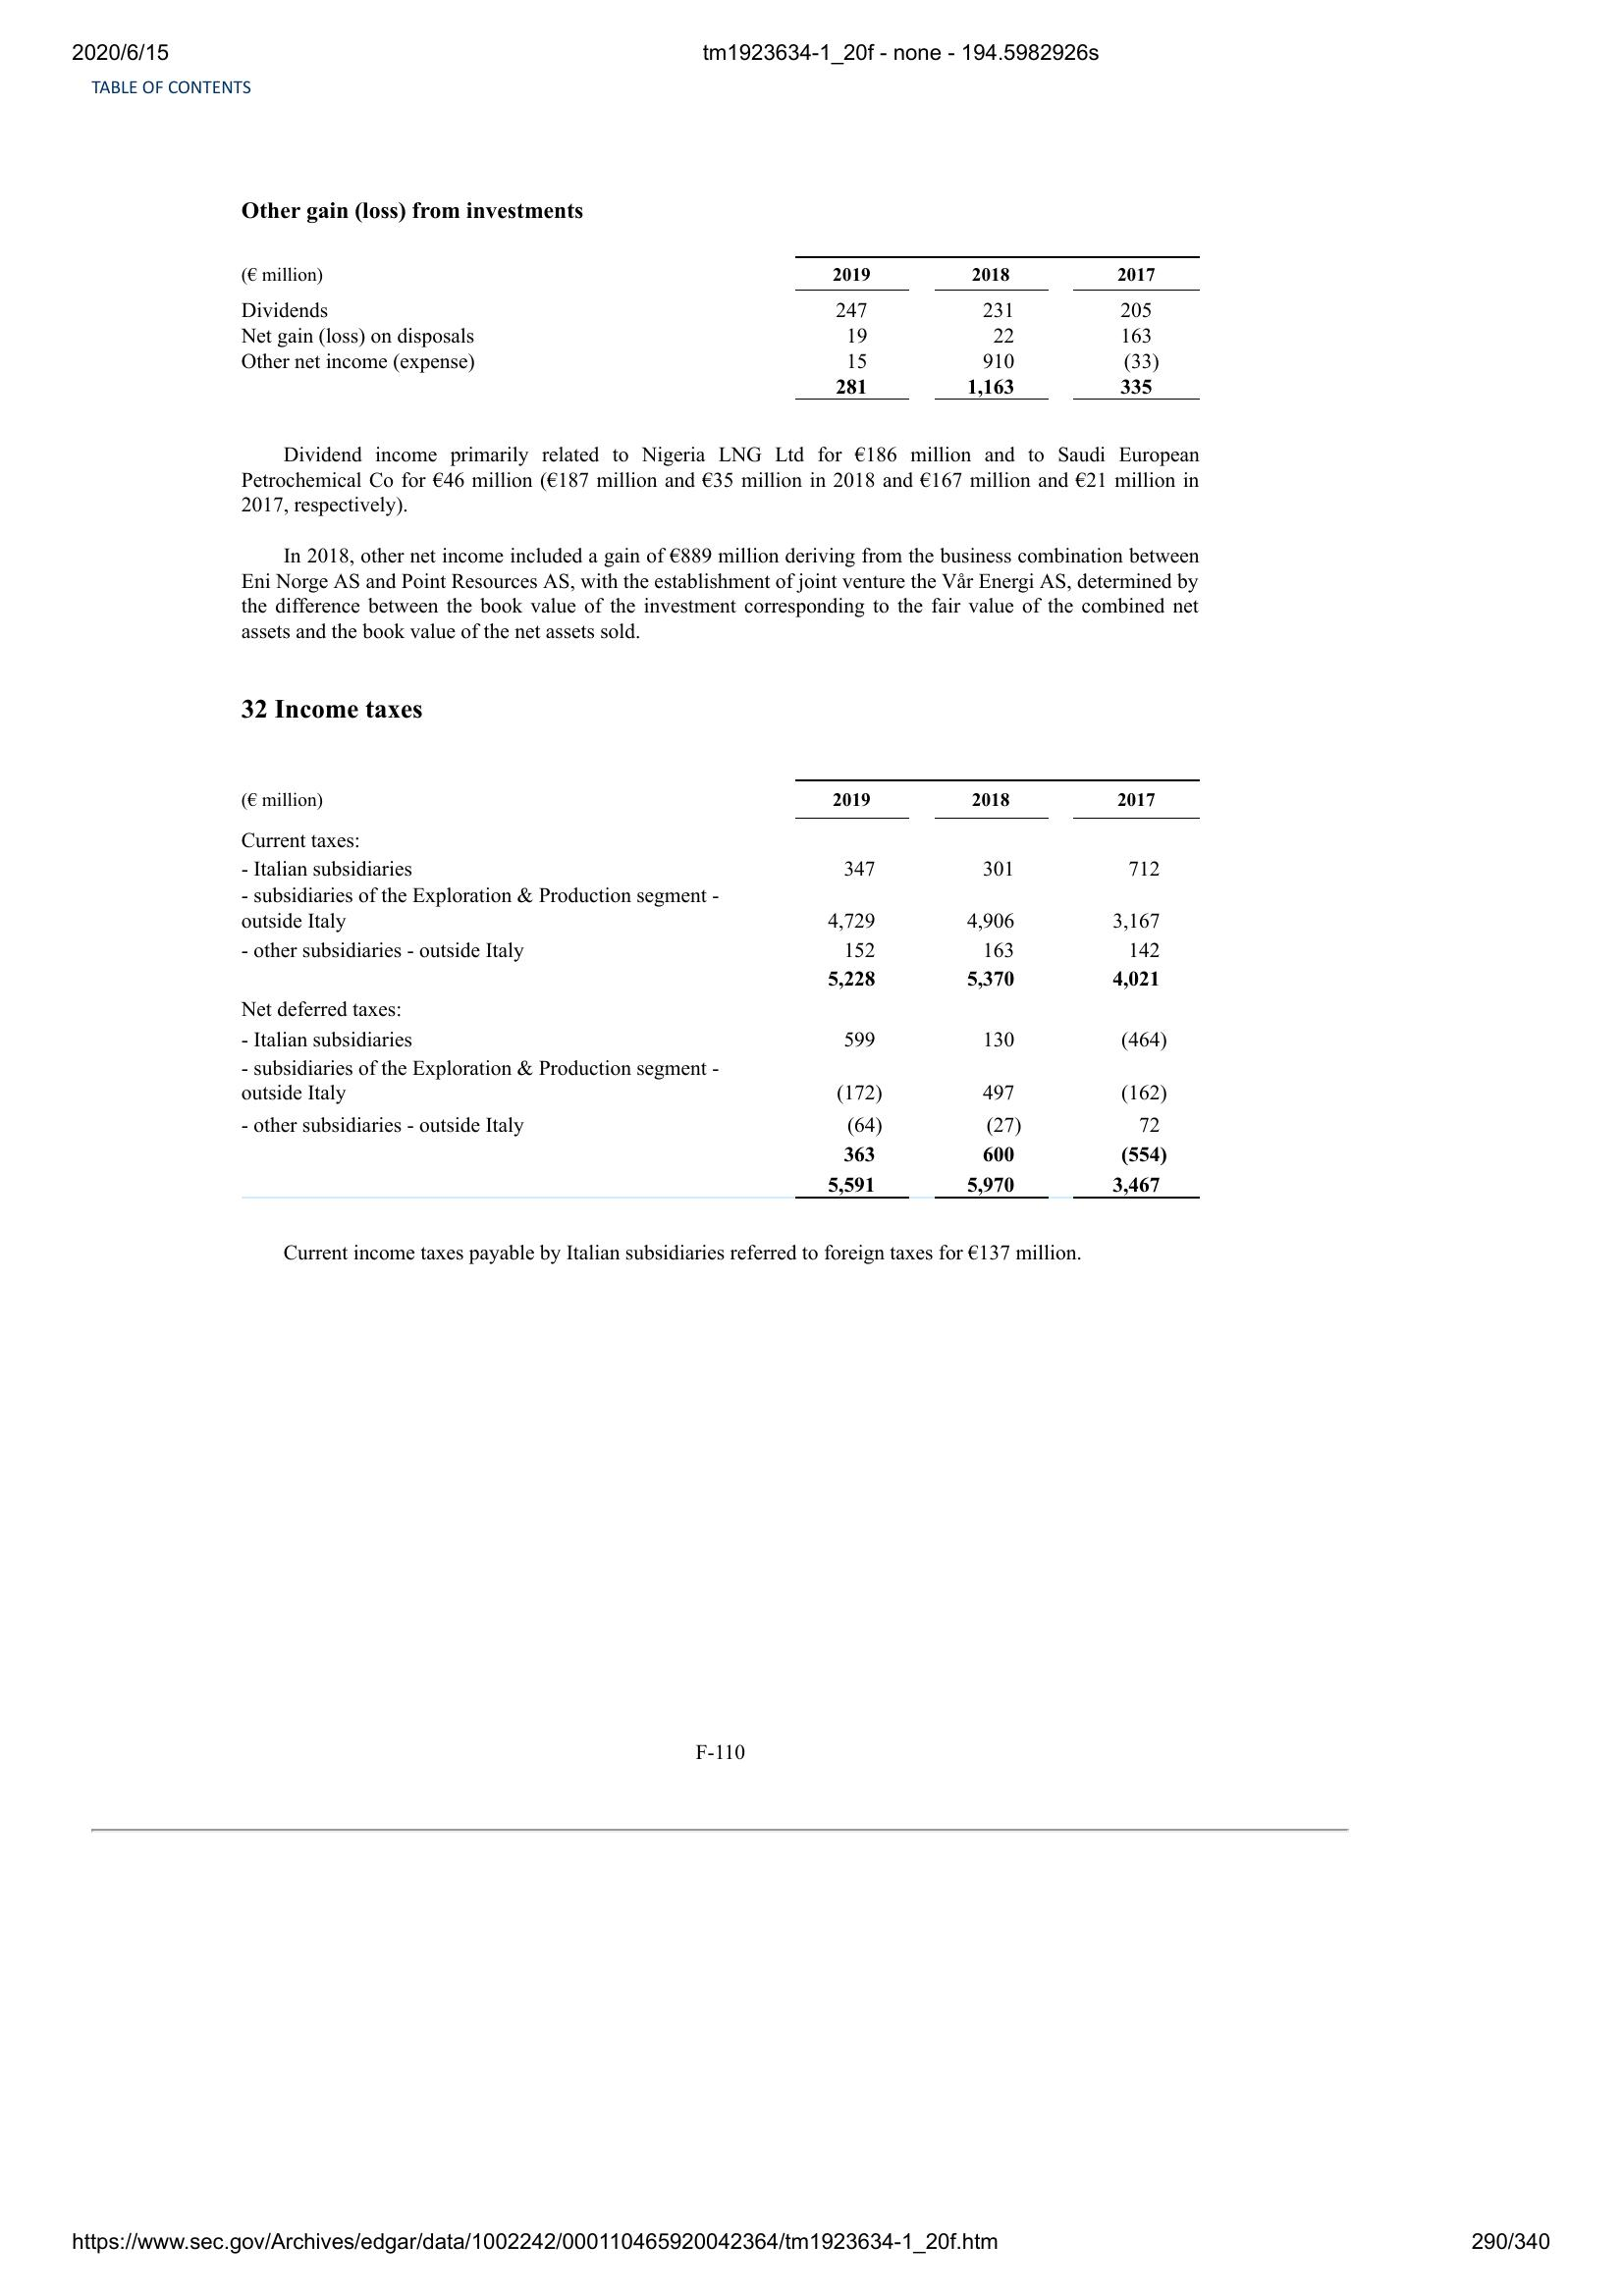table: (239, 771, 1205, 1208), (239, 244, 1208, 405)
